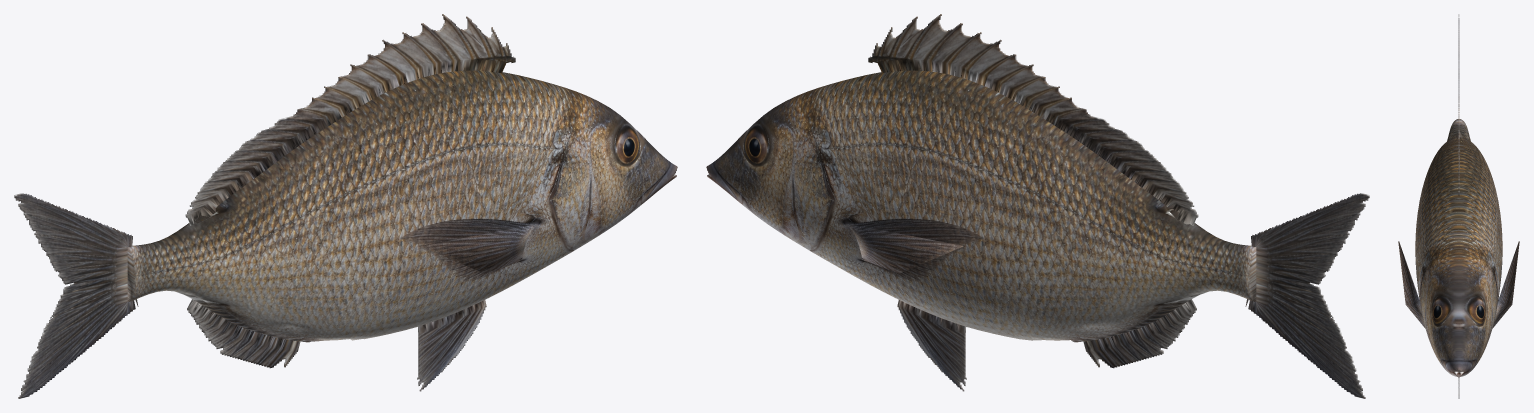
The model's file is hottentot.glb.
The picture shows the model from 3 angles, left to right: view 1: azimuth 30°, elevation 25°; view 2: azimuth 150°, elevation 25°; view 3: azimuth 270°, elevation 25°; orthographic projection. The views are drawn at different scales.
Parts seen in each view (by area): view 1: hottentot_realistic; view 2: hottentot_realistic; view 3: hottentot_realistic.
Part boxes in pixels (box(x1,y1,x2,y2)): hottentot_realistic: box(14, 14, 677, 398); hottentot_realistic: box(706, 14, 1369, 398); hottentot_realistic: box(1398, 14, 1519, 398).
Size of the model in its own units: 1 by 0.5354 by 0.2033.
Materials: 3 (3 with a texture image).
